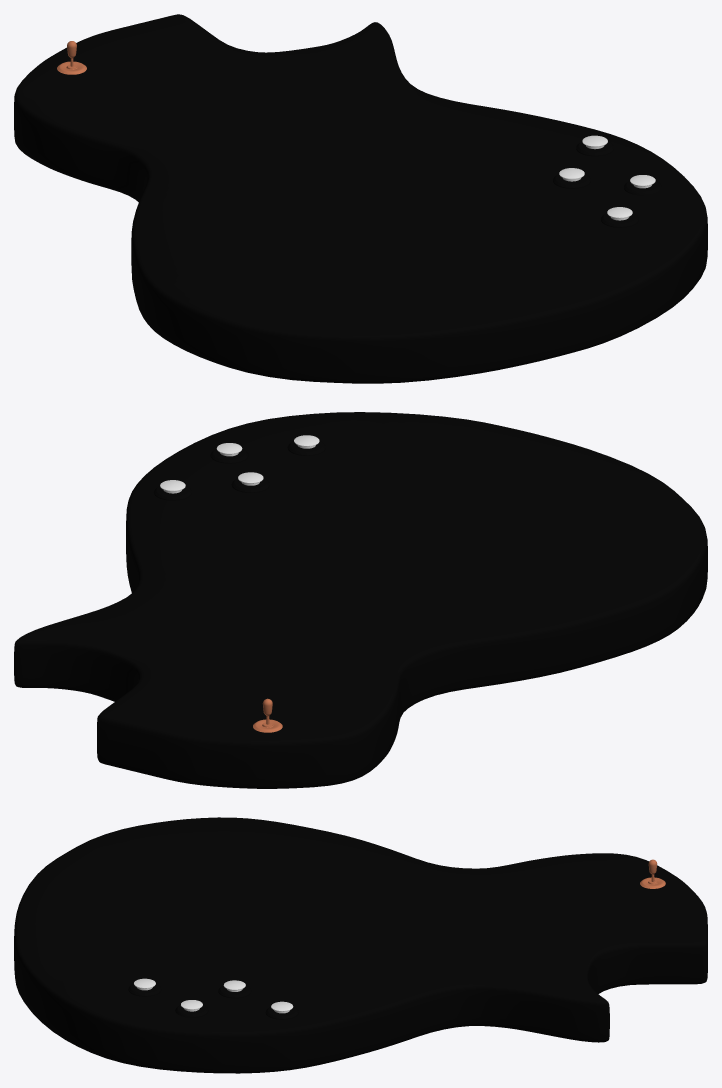
File: SingleCut_Alder.glb
The picture shows the model from 3 angles, top to bottom: view 1: azimuth 30°, elevation 25°; view 2: azimuth 150°, elevation 25°; view 3: azimuth 270°, elevation 25°; orthographic projection. The views are drawn at different scales.
Parts seen in each view (by area): view 1: SingleCut_Alder; view 2: SingleCut_Alder; view 3: SingleCut_Alder.
Boxes of the visible parts, box(x1,y1,x2,y2) form: SingleCut_Alder: box(14, 14, 707, 383); SingleCut_Alder: box(14, 412, 707, 788); SingleCut_Alder: box(14, 817, 707, 1073).
Bounding box in the file's own units: 1.75 × 0.2474 × 2.36.
Materials: 4 (1 with a texture image).
